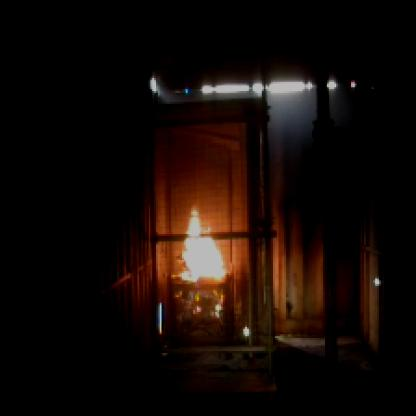Fire: (158, 200, 245, 328)
